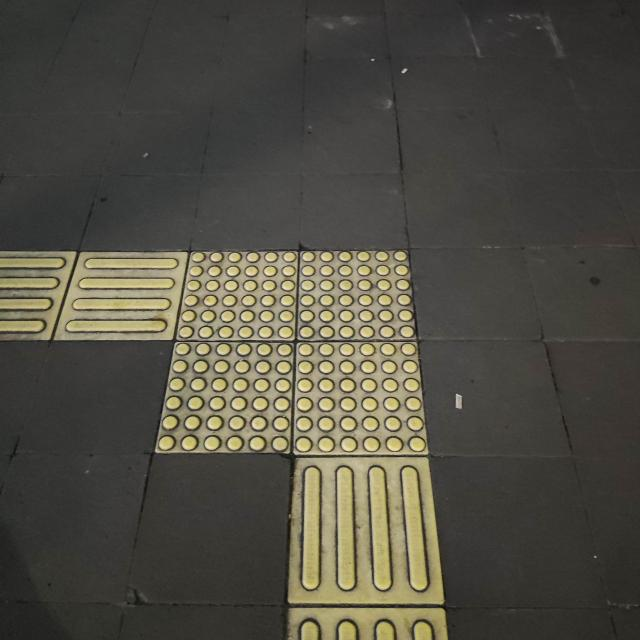kiri: (17, 236, 478, 542)
